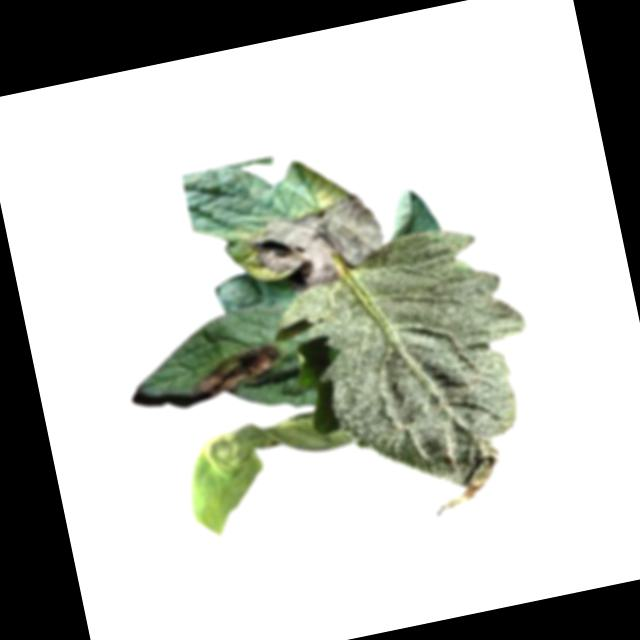Late_blight: (175, 403, 364, 543), (242, 187, 391, 298), (189, 340, 286, 402)
healthy: (270, 217, 557, 539)
